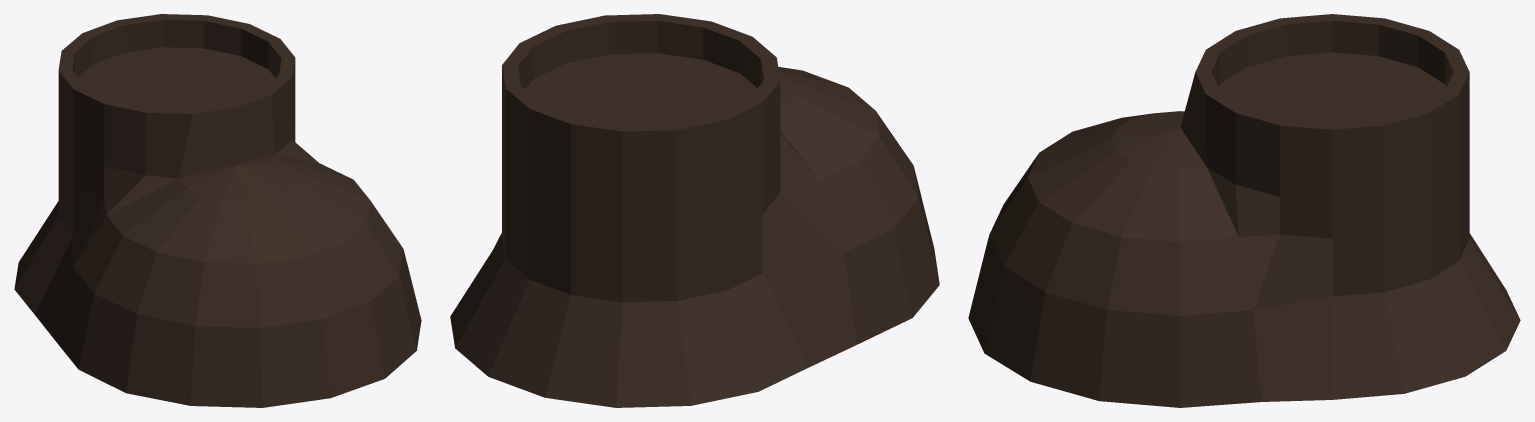
File: EnergyMarauder_Model_Boot_Default(ver0.1)_FantasyTactics.fbx
3 renders of one model, left to right at view 1: azimuth 30°, elevation 25°; view 2: azimuth 150°, elevation 25°; view 3: azimuth 270°, elevation 25°, orthographic. The views are drawn at different scales.
Visible parts, largest first — view 1: Energy Marauder Boot.001; view 2: Energy Marauder Boot.001; view 3: Energy Marauder Boot.001.
Part boxes in pixels (<box>): Energy Marauder Boot.001: <box>14,14,421,407</box>; Energy Marauder Boot.001: <box>450,14,939,407</box>; Energy Marauder Boot.001: <box>968,14,1520,407</box>.
Size of the model in its own units: 40 by 26.01 by 52.09.
